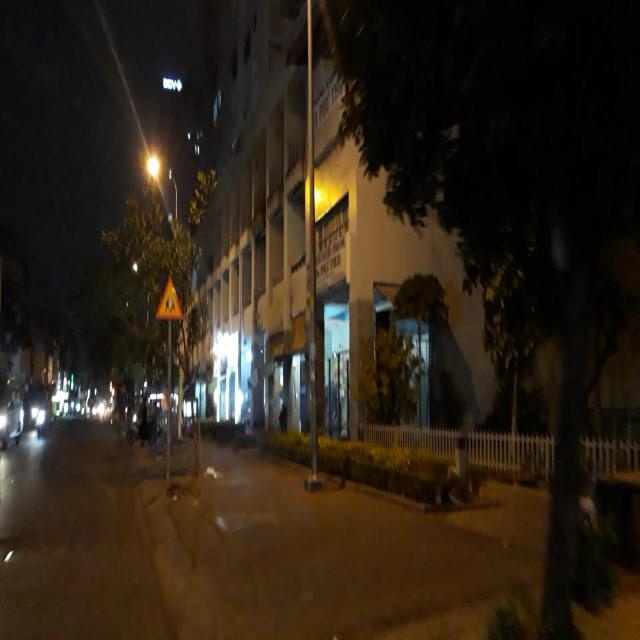bien_nguy_hiem: (155, 274, 183, 318)
